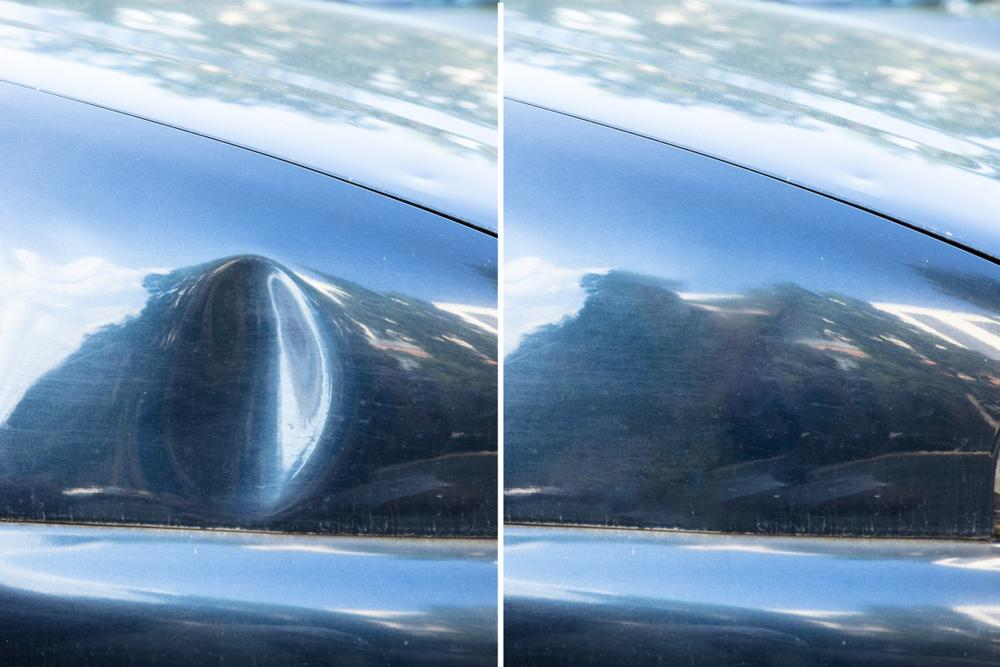dent: (141, 256, 347, 517)
